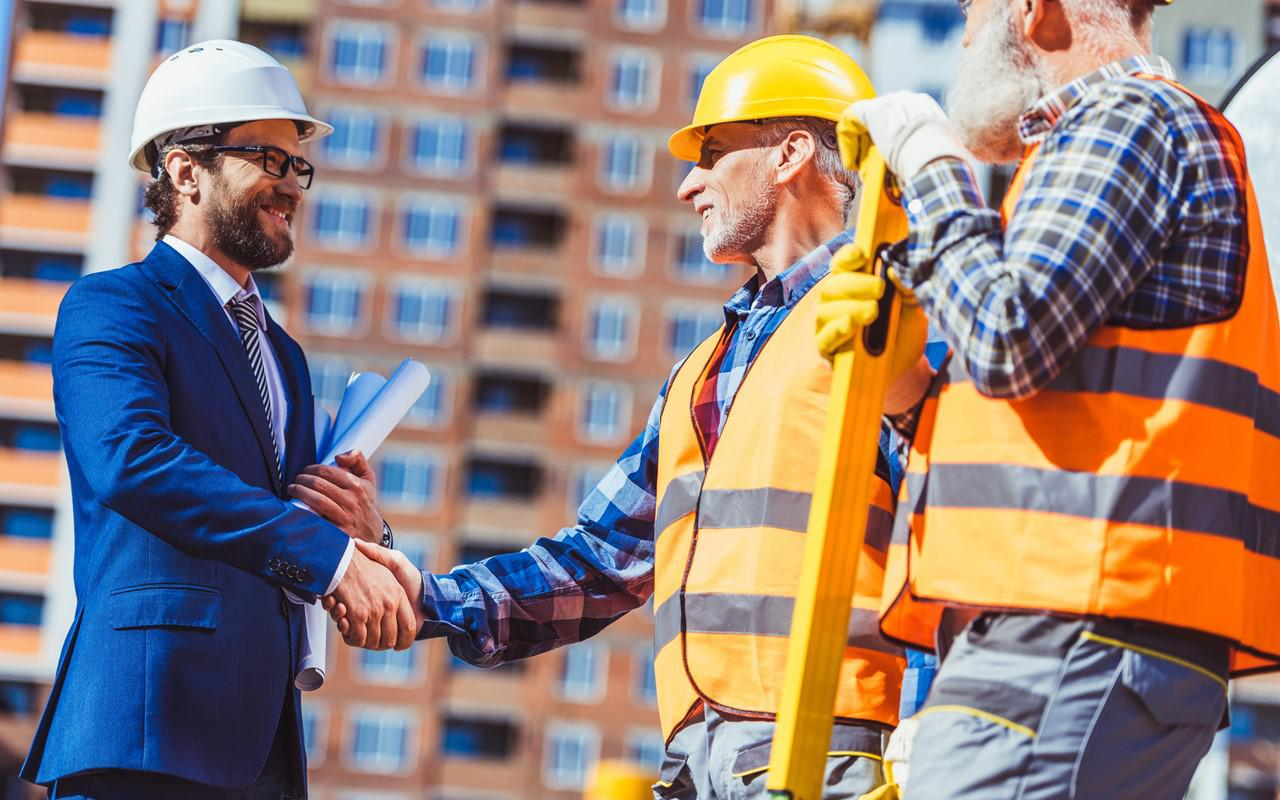hardhat: (119, 41, 334, 164), (664, 36, 880, 150)
worker: (359, 32, 944, 800), (17, 39, 419, 798)
